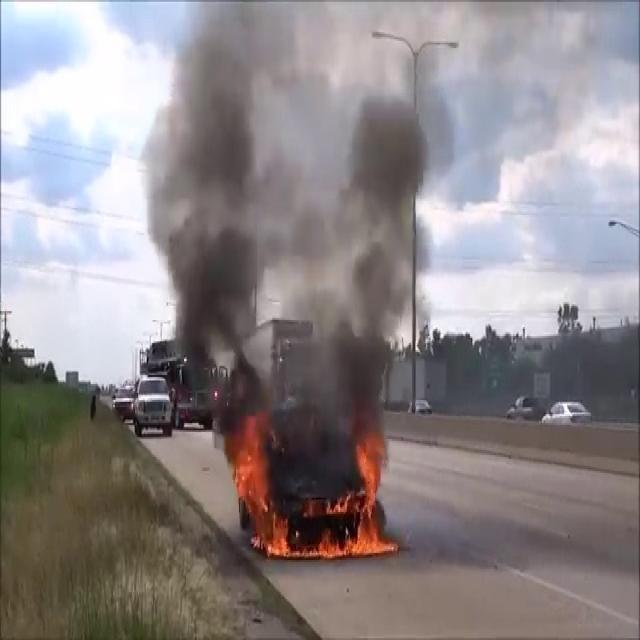Fire: (270, 428, 402, 566), (228, 407, 282, 549)
Smoke: (140, 2, 434, 418)
